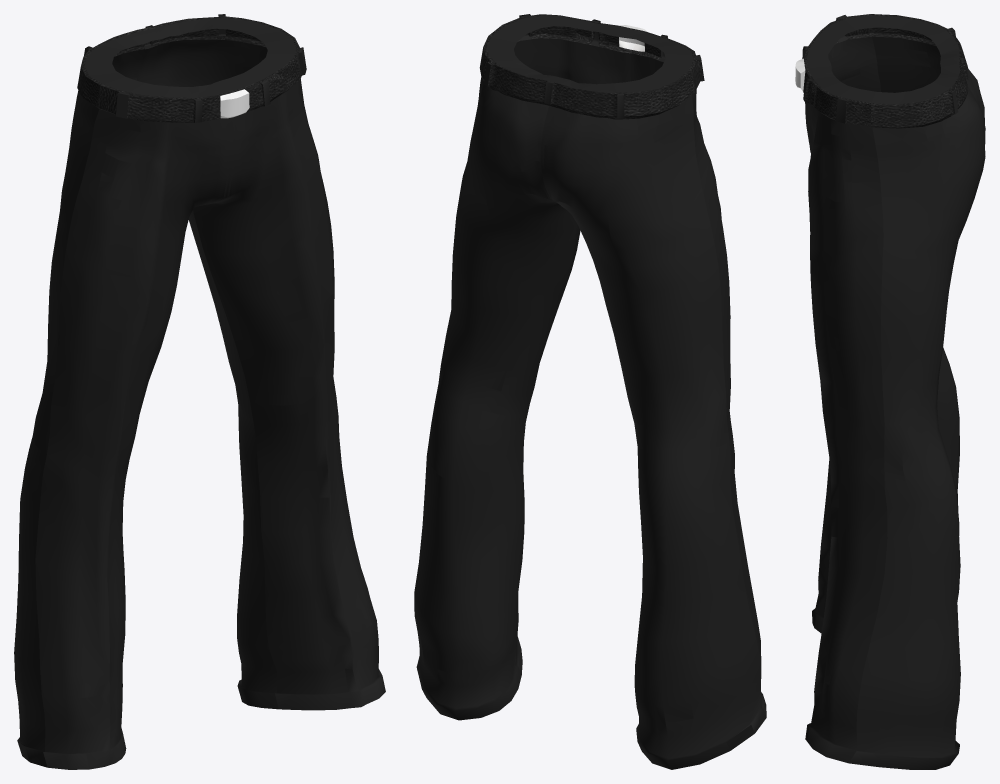
Rendered from elvs-male-trouser.glb.
3 renders of one model, left to right at view 1: azimuth 30°, elevation 25°; view 2: azimuth 150°, elevation 25°; view 3: azimuth 270°, elevation 25°, orthographic. The views are drawn at different scales.
Parts seen in each view (by area): view 1: male trouser; view 2: male trouser; view 3: male trouser.
Part boxes in pixels (x1,y1,x2,y2): male trouser: (14,14,385,769); male trouser: (414,14,766,769); male trouser: (795,14,985,769).
Size of the model in its own units: 53.47 by 104 by 27.33.
Materials: 1 (1 with a texture image).
